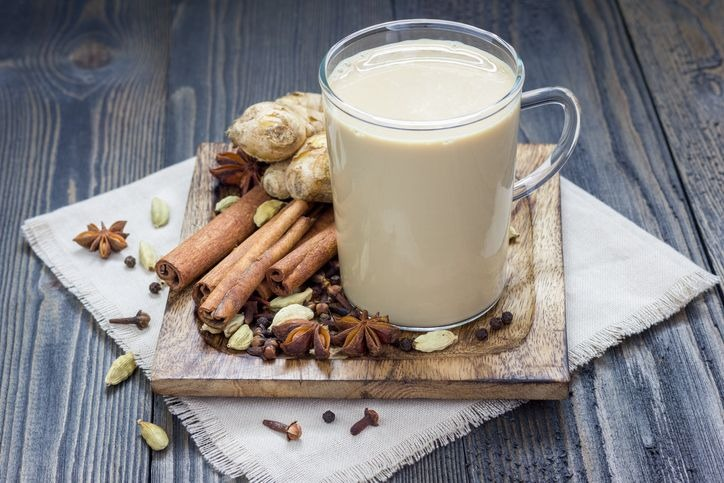produk_susu: (343, 46, 502, 292)
